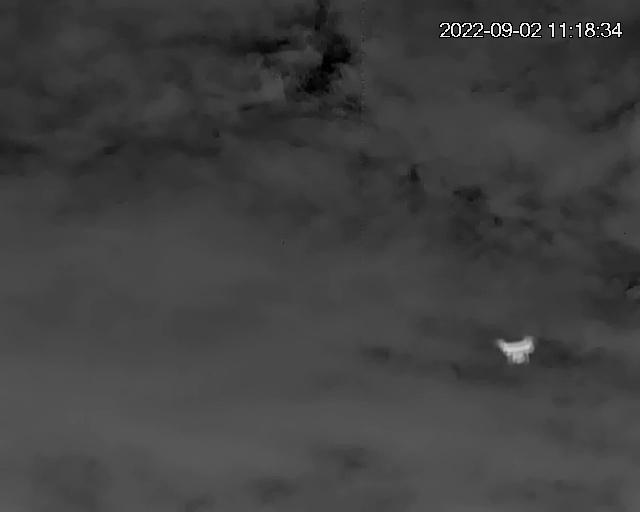DJI-Phantom: (491, 336, 539, 367)
